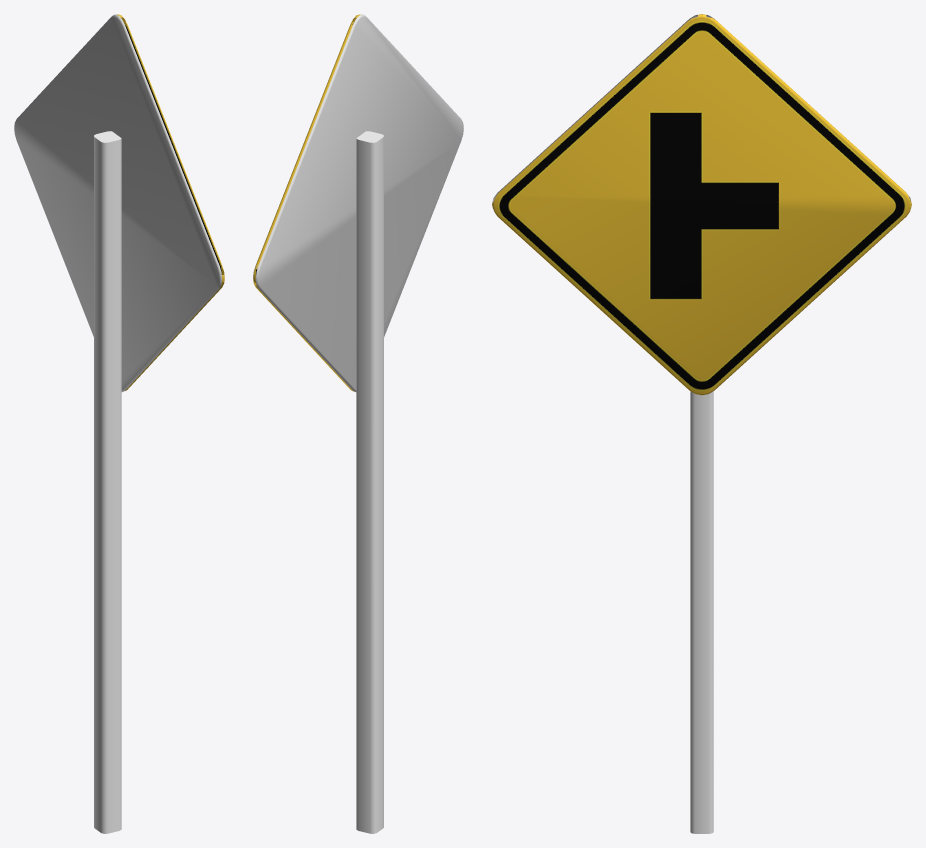
File: DiamondSign.fbx
3 views of the same model, side by side, from view 1: azimuth 30°, elevation 25°; view 2: azimuth 150°, elevation 25°; view 3: azimuth 270°, elevation 25° (orthographic).
Parts seen in each view (by area): view 1: Cube; view 2: Cube; view 3: Cube.
Boxes of the visible parts, bbox=[...] form: Cube: bbox=[14, 14, 224, 833]; Cube: bbox=[253, 14, 463, 833]; Cube: bbox=[492, 14, 911, 833].
Bounding box in the file's own units: 13.43 × 426 × 198.
